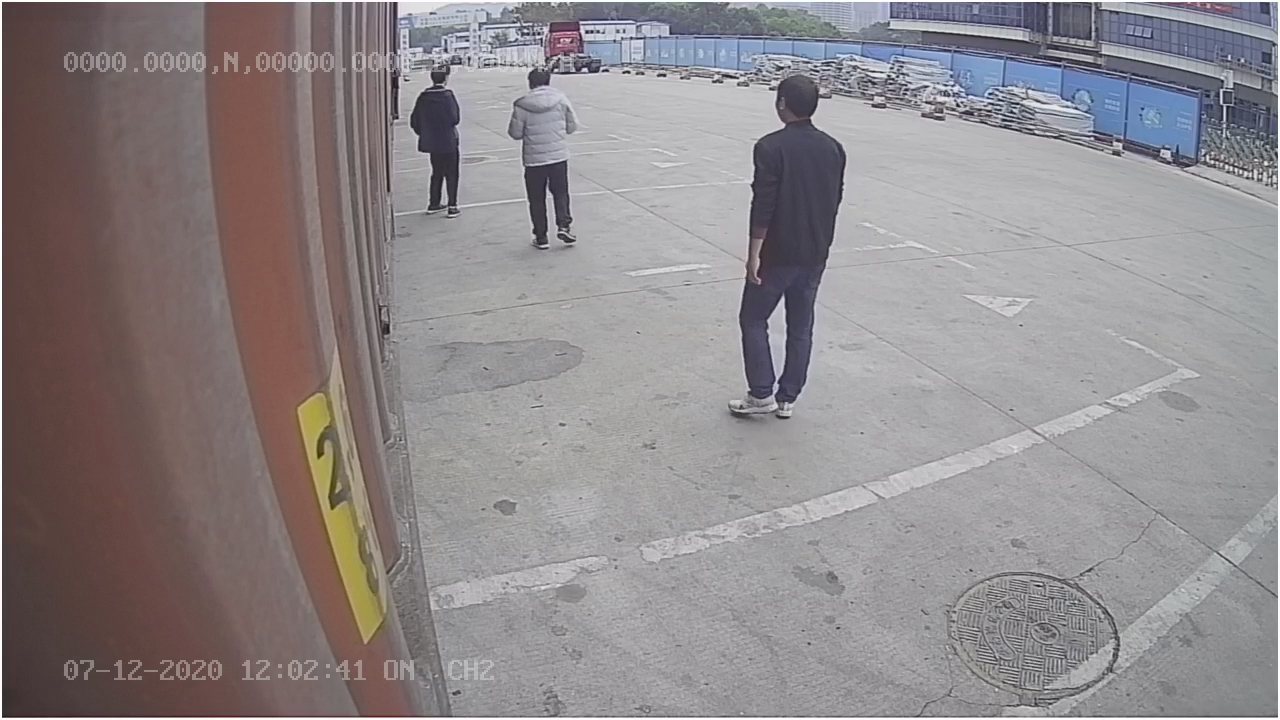person: (724, 74, 849, 425)
